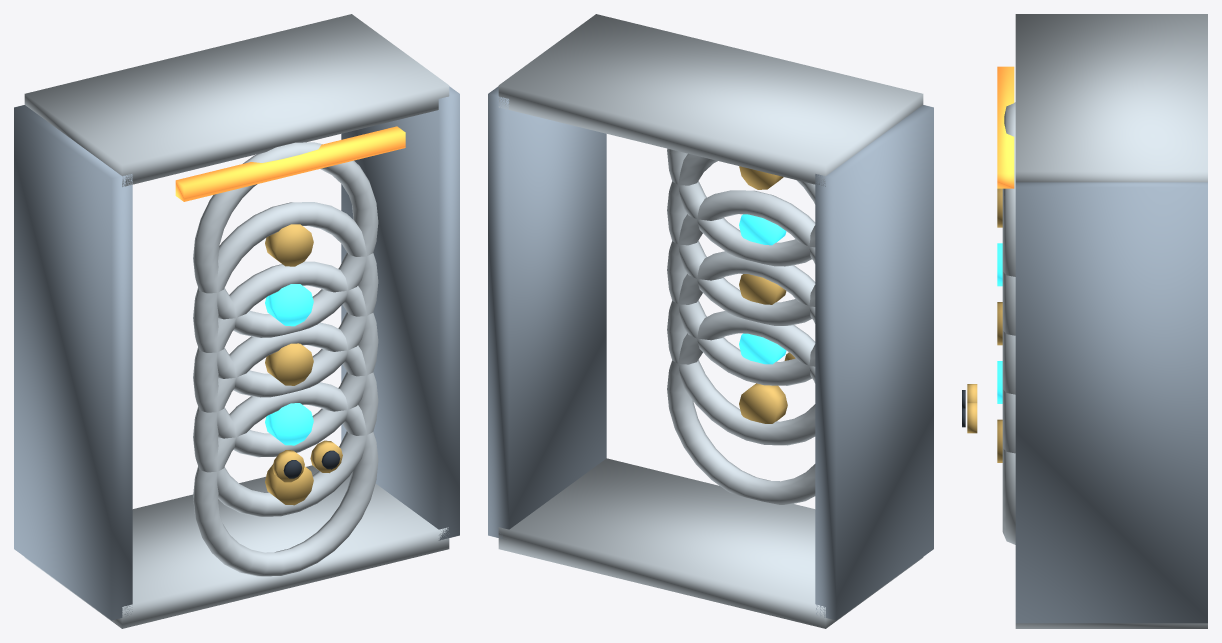
The model's file is 16_L89_HeavyIonChannelDetector.glb.
3 renders of one model, left to right at view 1: azimuth 30°, elevation 25°; view 2: azimuth 150°, elevation 25°; view 3: azimuth 270°, elevation 25°, orthographic.
Visible parts, largest first — view 1: L87_HeavyIonChannelDetector_Part_0000, L87_HeavyIonChannelDetector_Part_0001, L87_HeavyIonChannelDetector_Part_0002, L87_HeavyIonChannelDetector_Part_0005, L87_HeavyIonChannelDetector_Part_0003, L87_HeavyIonChannelDetector_Part_0004; view 2: L87_HeavyIonChannelDetector_Part_0000, L87_HeavyIonChannelDetector_Part_0001, L87_HeavyIonChannelDetector_Part_0002, L87_HeavyIonChannelDetector_Part_0003, L87_HeavyIonChannelDetector_Part_0004; view 3: L87_HeavyIonChannelDetector_Part_0000, L87_HeavyIonChannelDetector_Part_0001, L87_HeavyIonChannelDetector_Part_0002, L87_HeavyIonChannelDetector_Part_0005, L87_HeavyIonChannelDetector_Part_0003, L87_HeavyIonChannelDetector_Part_0004.
Boxes of the visible parts, x1,y1,x2,y2 form: L87_HeavyIonChannelDetector_Part_0000: (14, 86, 459, 620); L87_HeavyIonChannelDetector_Part_0001: (24, 14, 449, 628); L87_HeavyIonChannelDetector_Part_0002: (193, 142, 378, 576); L87_HeavyIonChannelDetector_Part_0005: (175, 126, 405, 201); L87_HeavyIonChannelDetector_Part_0003: (265, 224, 313, 505); L87_HeavyIonChannelDetector_Part_0004: (265, 284, 313, 445); L87_HeavyIonChannelDetector_Part_0000: (488, 86, 933, 620); L87_HeavyIonChannelDetector_Part_0001: (498, 14, 923, 628); L87_HeavyIonChannelDetector_Part_0002: (667, 148, 815, 504); L87_HeavyIonChannelDetector_Part_0003: (739, 166, 787, 423); L87_HeavyIonChannelDetector_Part_0004: (739, 214, 786, 364); L87_HeavyIonChannelDetector_Part_0000: (1015, 182, 1207, 623); L87_HeavyIonChannelDetector_Part_0001: (1015, 14, 1207, 628); L87_HeavyIonChannelDetector_Part_0002: (1002, 102, 1015, 544); L87_HeavyIonChannelDetector_Part_0005: (997, 66, 1014, 188); L87_HeavyIonChannelDetector_Part_0003: (997, 188, 1002, 462); L87_HeavyIonChannelDetector_Part_0004: (997, 243, 1002, 403).
Bounding box in the file's own units: 1.65 × 2.1 × 1.02.
